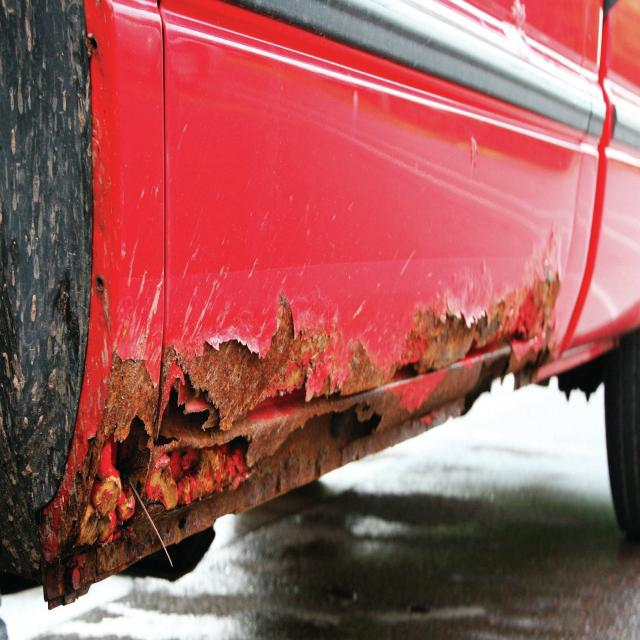Uniform Corrosion: (42, 265, 561, 608)
